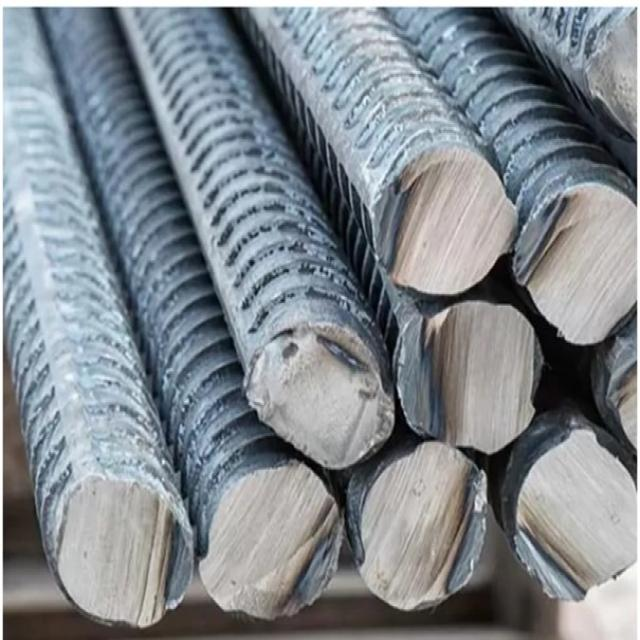Rebar: (507, 417, 639, 612), (350, 438, 488, 622), (42, 475, 189, 640), (382, 145, 514, 310), (207, 471, 341, 628), (394, 300, 536, 448), (523, 171, 640, 341), (250, 329, 393, 462), (588, 3, 640, 148), (614, 333, 640, 473)
